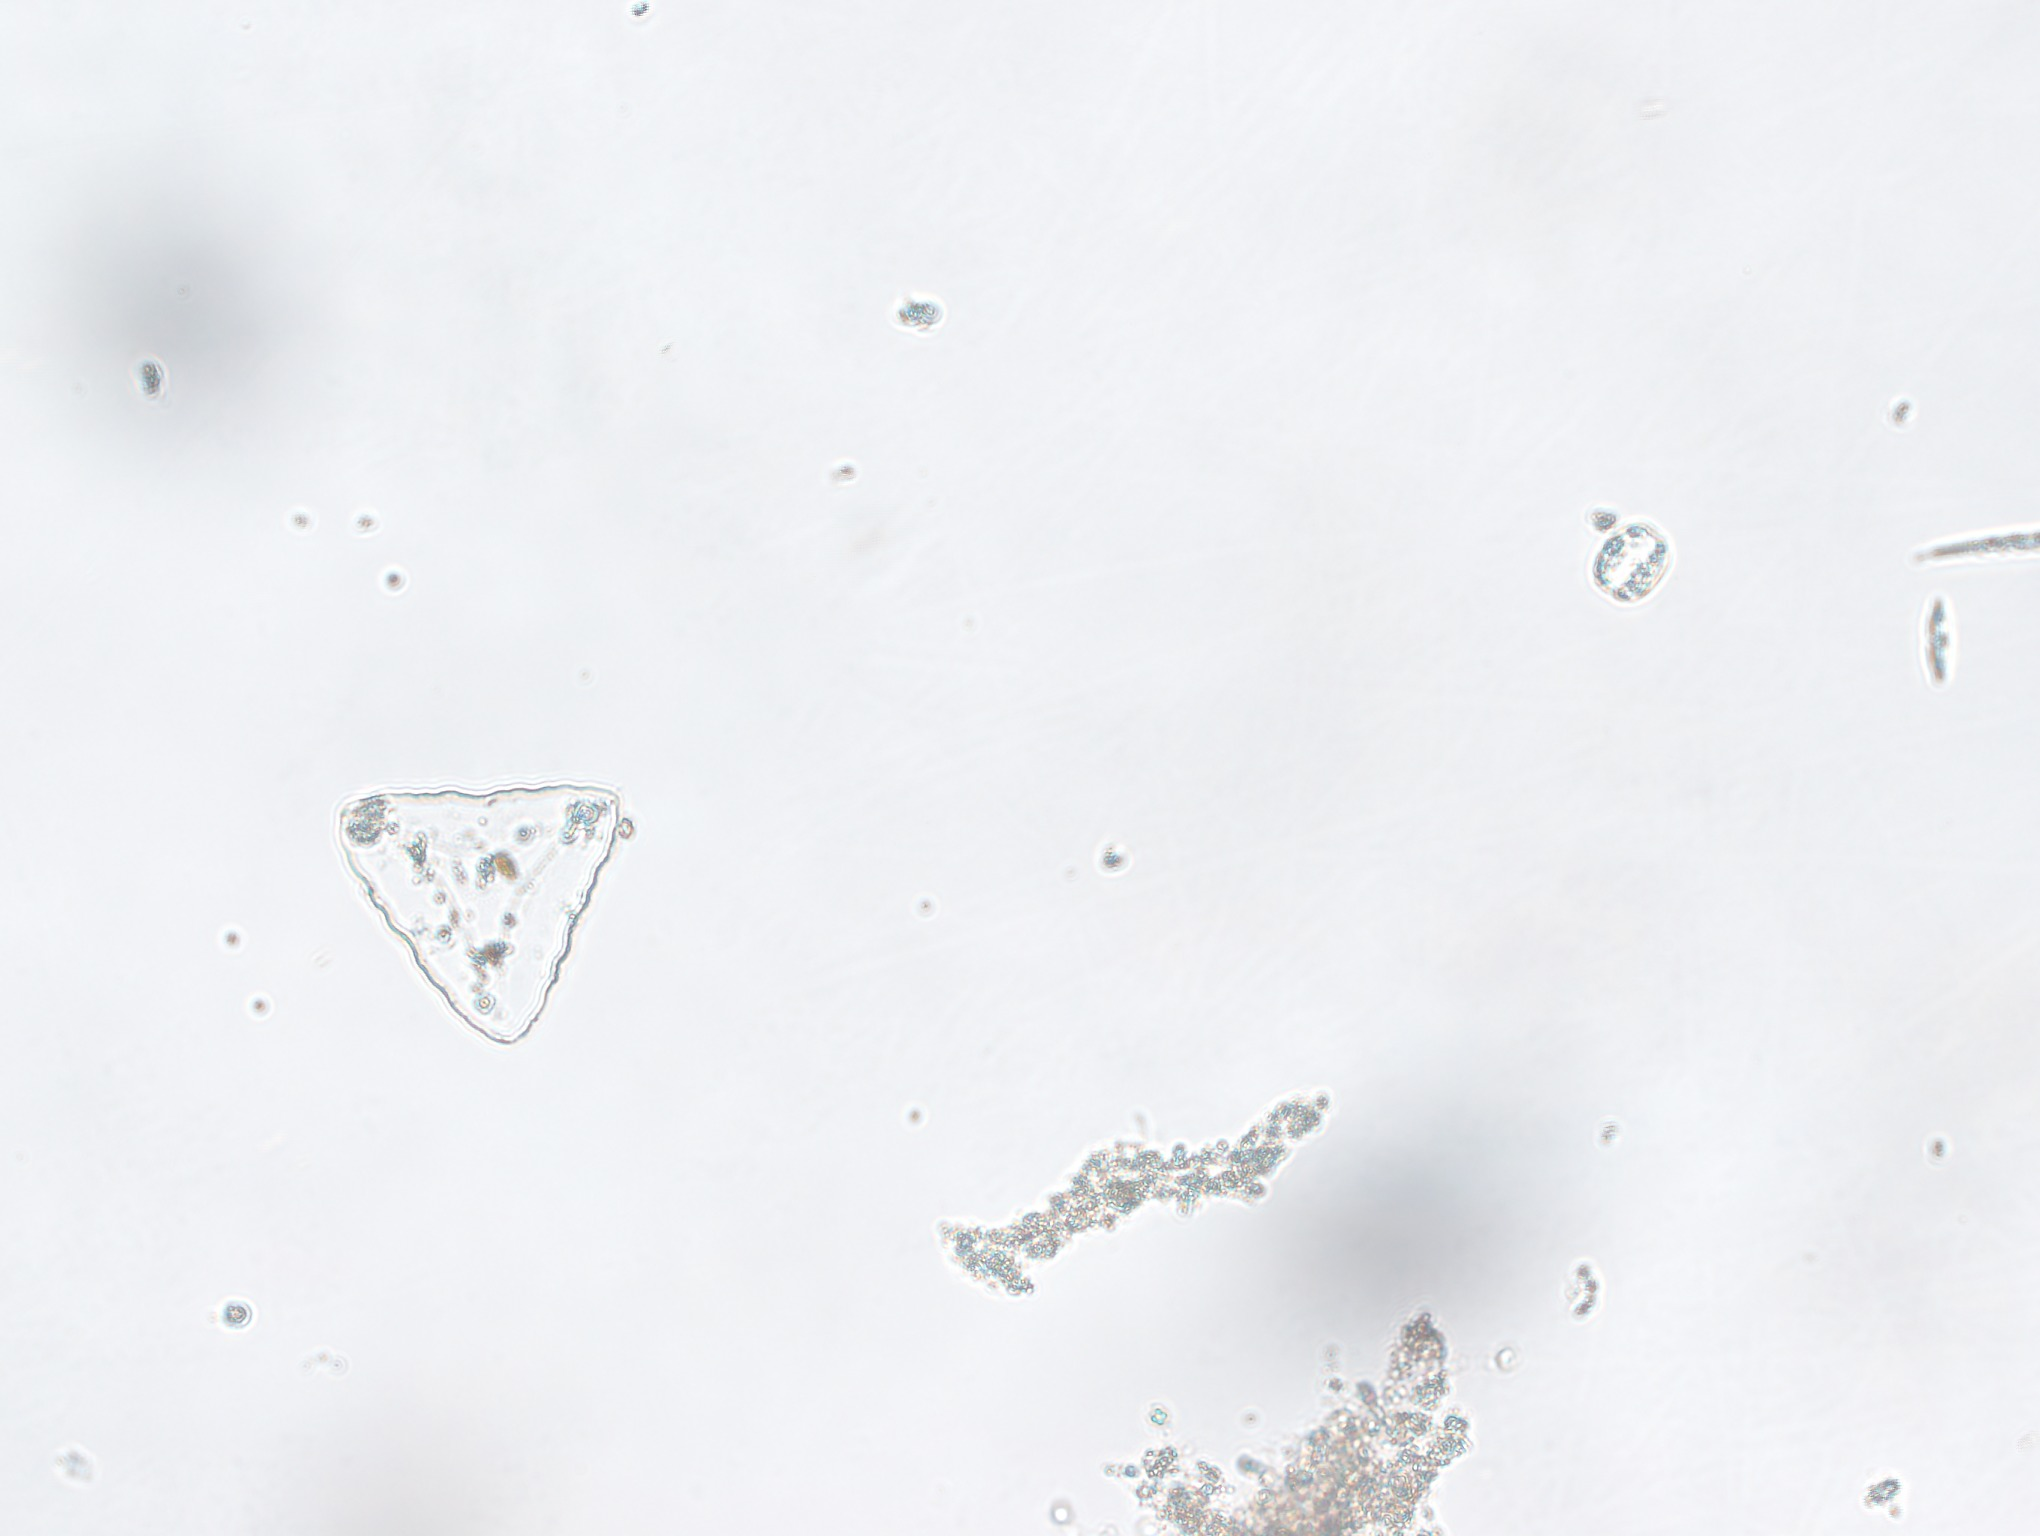coscinodiscus flank: (306, 760, 663, 1057)
